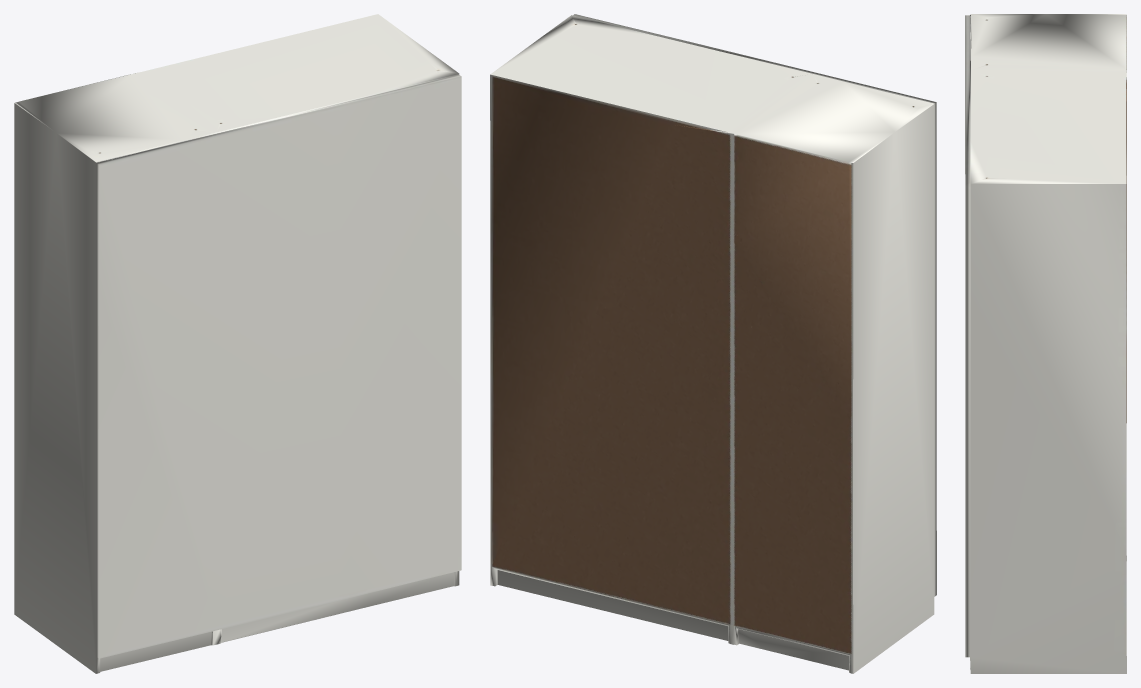
Rendered from pax_forsand_kombinacja_szafy_09494304.glb.
The picture shows the model from 3 angles, left to right: view 1: azimuth 30°, elevation 25°; view 2: azimuth 150°, elevation 25°; view 3: azimuth 270°, elevation 25°; orthographic projection. The views are drawn at different scales.
Visible parts, largest first — view 1: pax_forsand_kombinacja_szafy_09494304; view 2: pax_forsand_kombinacja_szafy_09494304; view 3: pax_forsand_kombinacja_szafy_09494304.
Part boxes in pixels (bbox=[...]): pax_forsand_kombinacja_szafy_09494304: bbox=[14, 14, 461, 673]; pax_forsand_kombinacja_szafy_09494304: bbox=[490, 14, 936, 673]; pax_forsand_kombinacja_szafy_09494304: bbox=[965, 14, 1126, 673].
Size of the model in its own units: 1.5 by 2.01 by 0.6024.
Materials: 1 (1 with a texture image).
